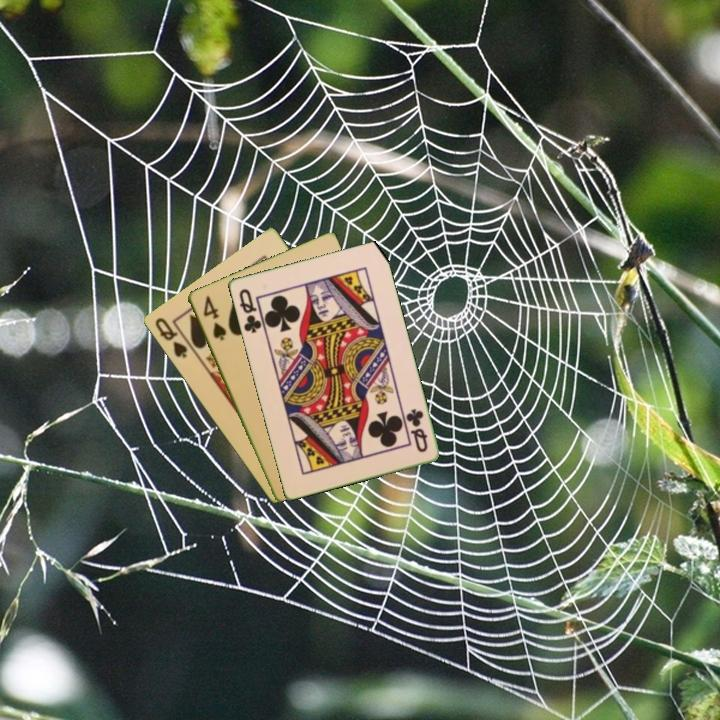4s: (199, 292, 229, 343)
Qc: (235, 285, 267, 336), (402, 405, 430, 455)
Qs: (151, 314, 190, 361)
